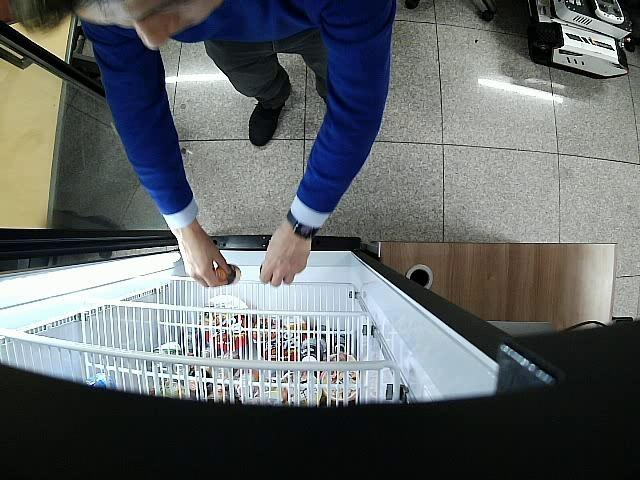17_vita500: (216, 262, 242, 284)
